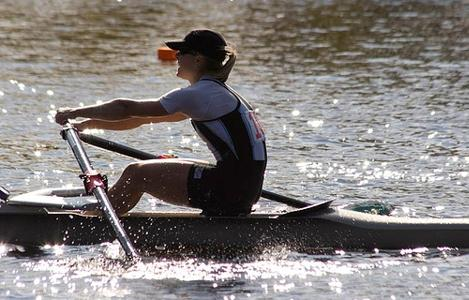person: (56, 31, 266, 219)
